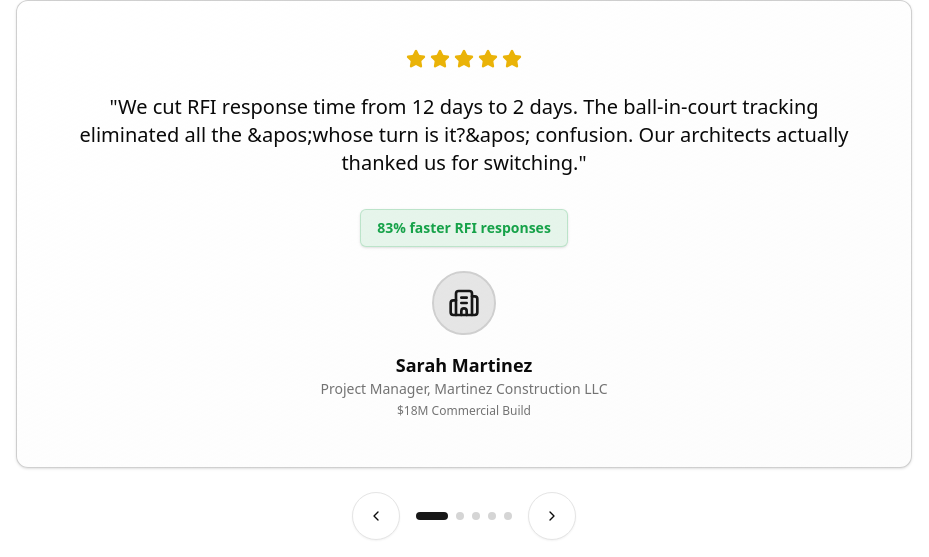
Test: TestimonialCarousel › Navigation › should navigate to specific testimonial when dot clicked
Note: Click on third dot (index 2)
Click the tab named "Go to testimonial 3" at {"x": 476, "y": 516}, box left=472, top=512, right=480, bottom=520
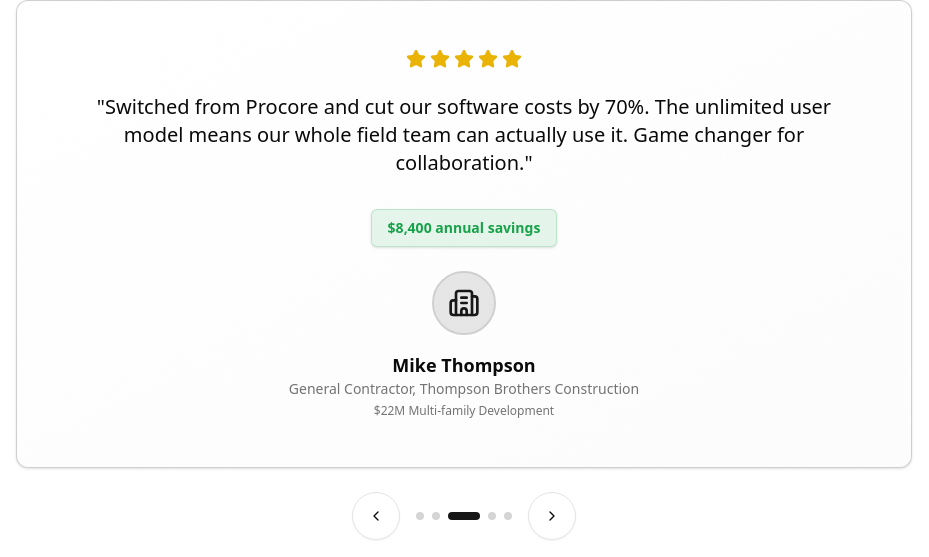
Expected: the text "Mike Thompson" is shown, left=392, top=353, right=536, bottom=377
